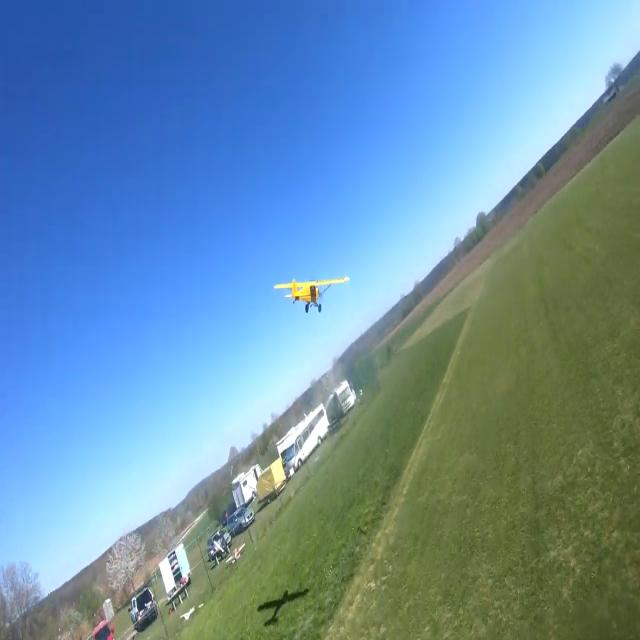iha: (311, 275, 317, 317)
